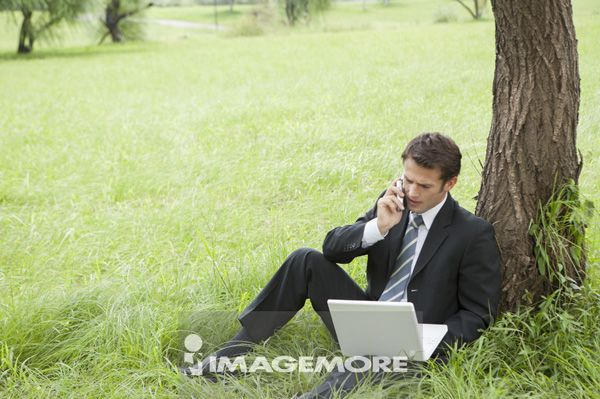talk: (374, 167, 436, 233)
